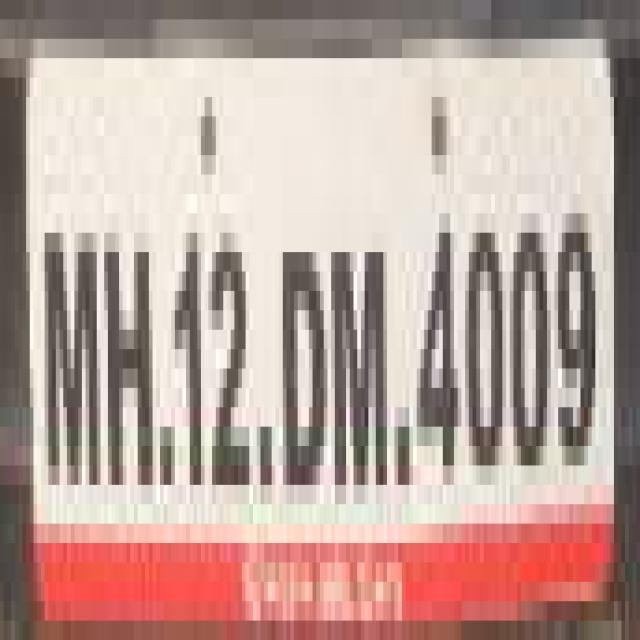license_plate: (22, 20, 640, 562)
